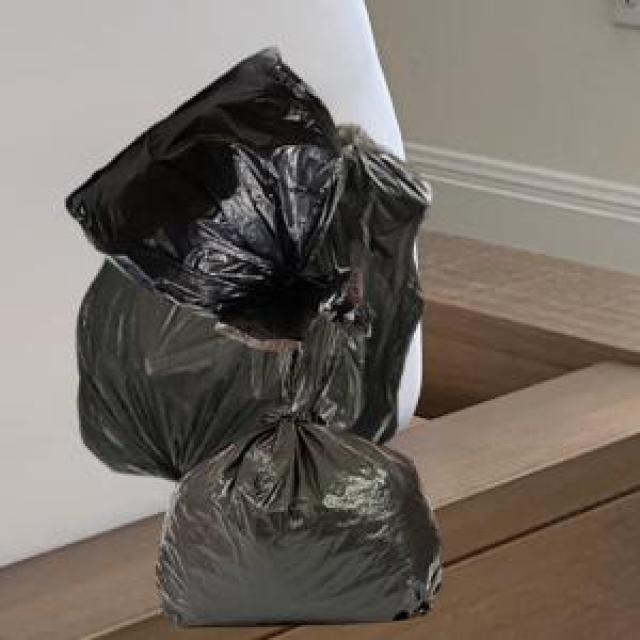waste: (68, 49, 441, 624)
